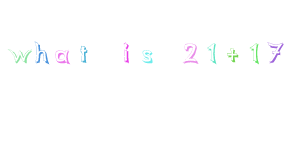+: (223, 40, 239, 71)
1: (203, 40, 222, 68), (246, 39, 262, 66)
2: (177, 37, 202, 70)
7: (266, 39, 287, 66)
a: (53, 44, 71, 65)
h: (34, 35, 50, 70)
i: (115, 40, 138, 67)
s: (139, 42, 154, 68)
t: (75, 42, 93, 66)
w: (5, 40, 32, 69)
